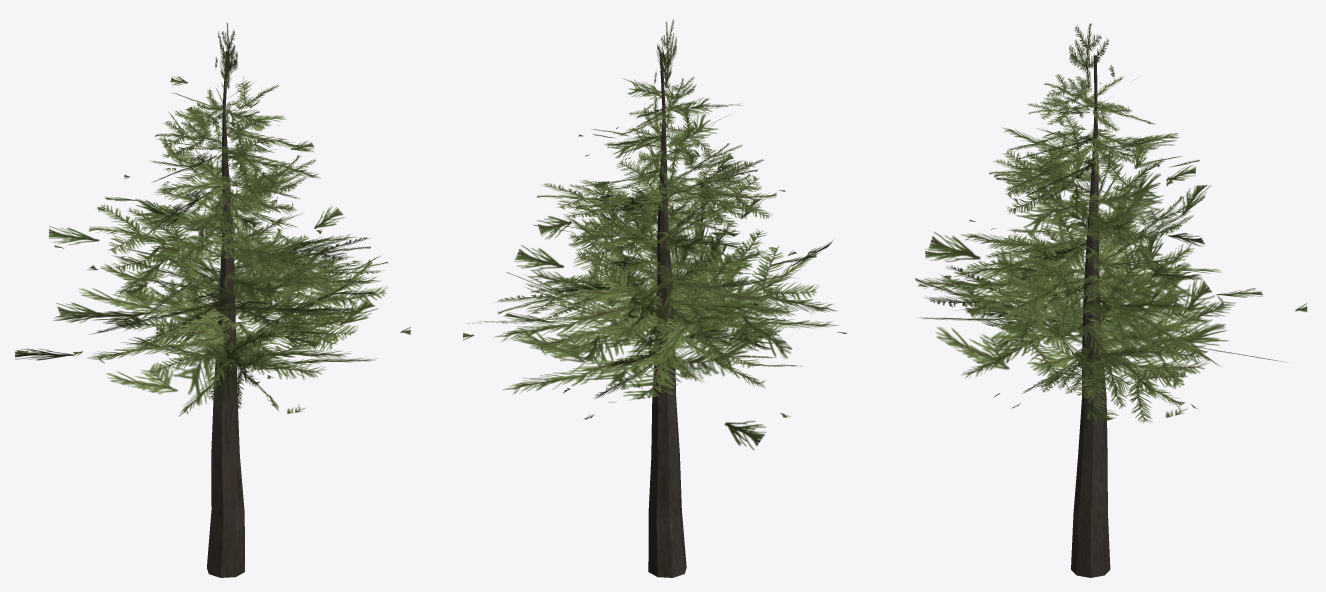
File: prop_sapling_pinemed_a.glb
3 renders of one model, left to right at view 1: azimuth 30°, elevation 25°; view 2: azimuth 150°, elevation 25°; view 3: azimuth 270°, elevation 25°, orthographic.
Parts seen in each view (by area): view 1: conifer_pine_99; view 2: conifer_pine_99; view 3: conifer_pine_99.
Part boxes in pixels (x1,y1,x2,y2): conifer_pine_99: [15, 22, 410, 577]; conifer_pine_99: [462, 19, 846, 577]; conifer_pine_99: [915, 23, 1307, 577].
Bounding box in the file's own units: 5.5 × 7.95 × 5.53.
2 materials, 2 textured.
